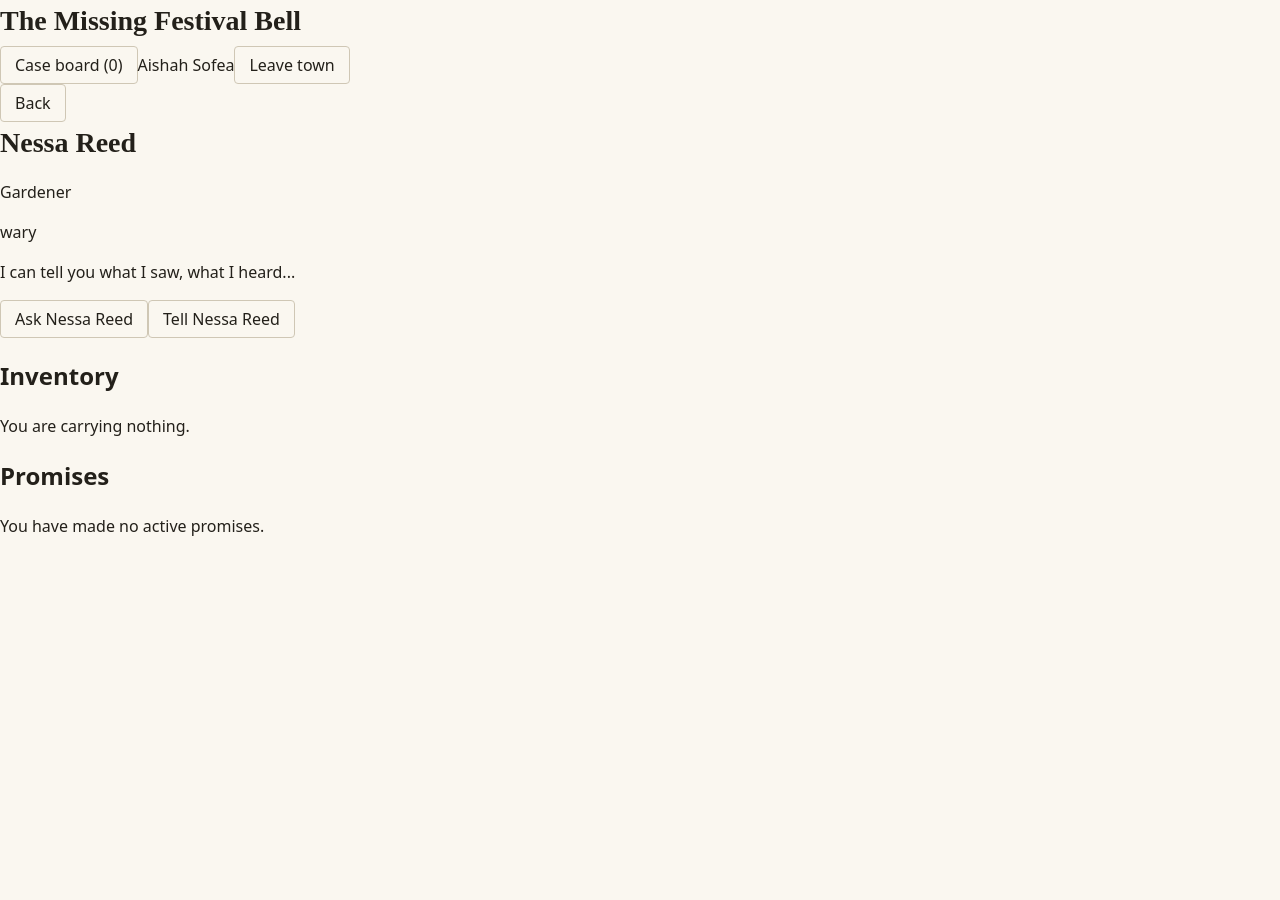
Encounter — Tell interpretation (P4-19) › sends Interpret and Tell as two separate actions and closes the sheet only after Tell completes
Click the button "Tell Nessa Reed".
click(221, 319)  # box [148,300,295,338]
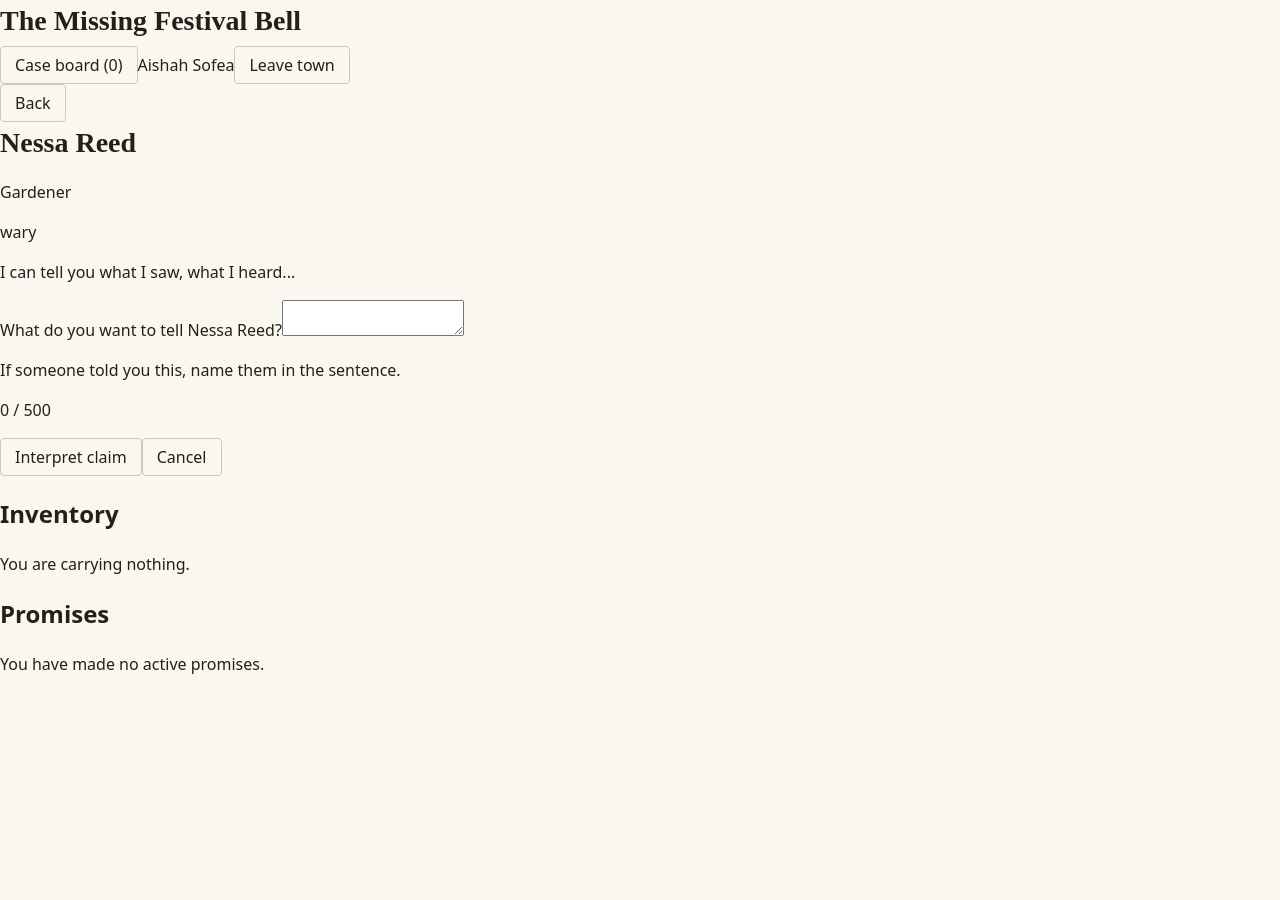
Type "The bell is hidden in Reed's Garden." into the text box labelled "What do you want to tell Nessa Reed?".
click(373, 318); type("The bell is hidden in Reed's Garden.")  # box [282,300,464,336]
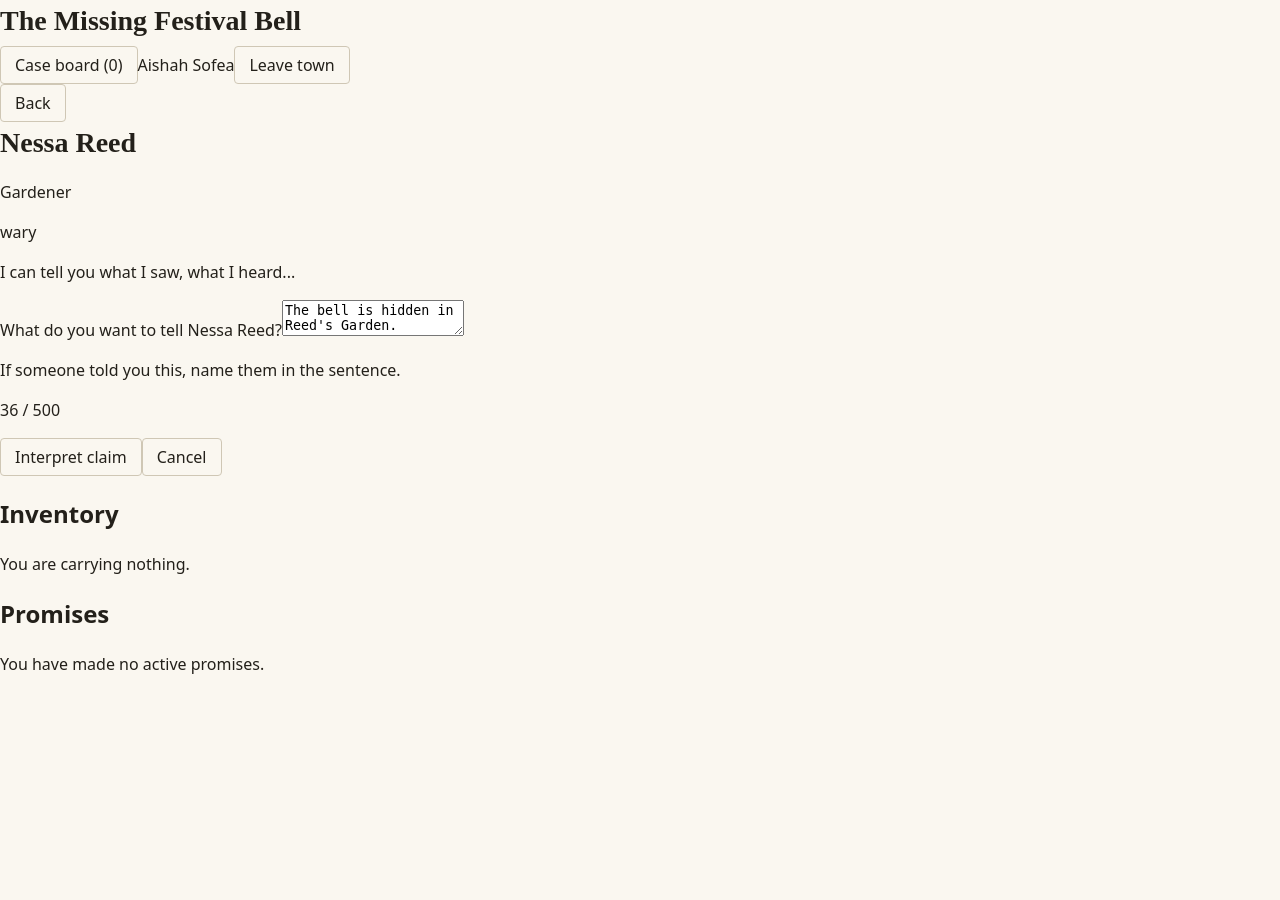
Click the button "Interpret claim".
click(71, 457)  # box [0,438,142,476]
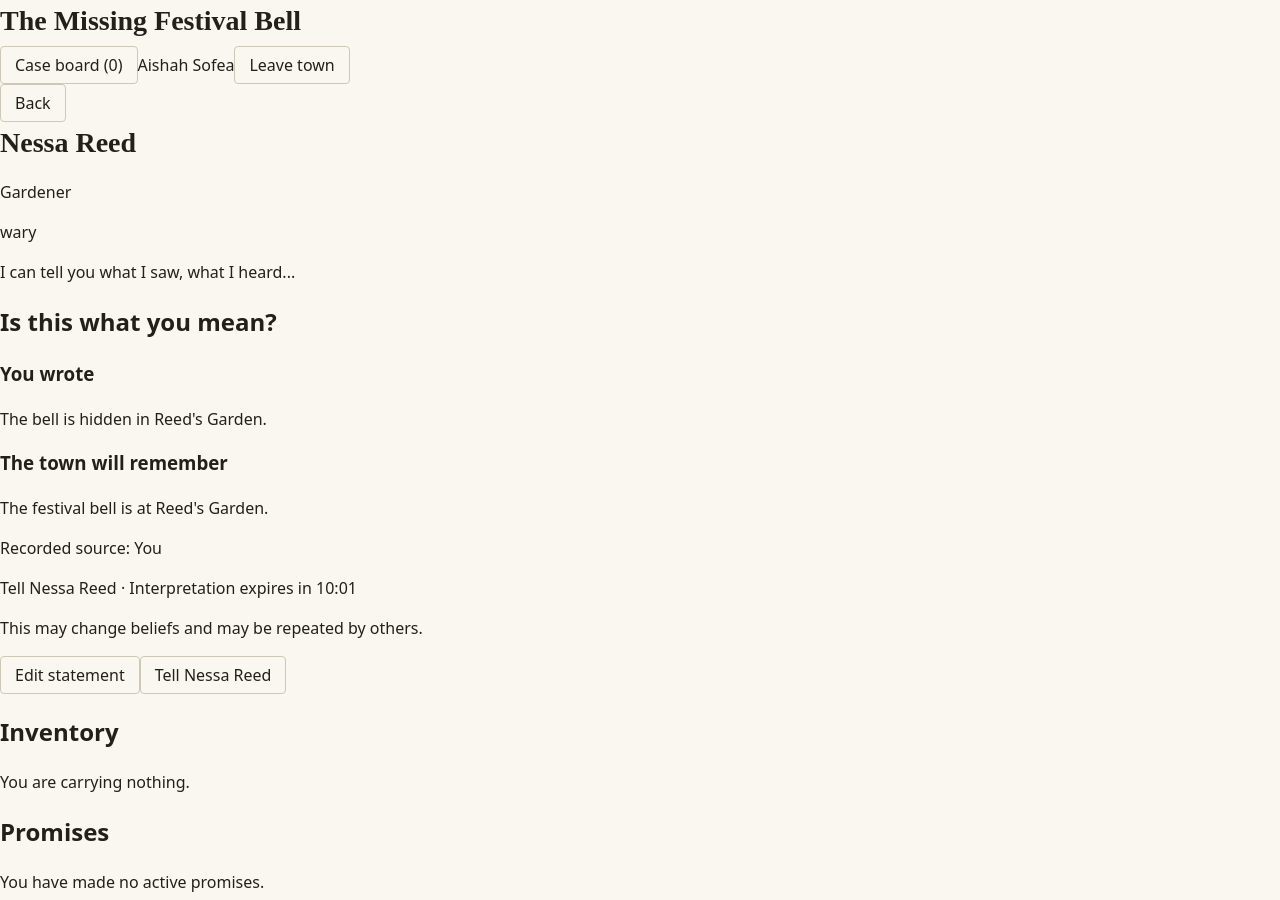
Now the dialog "Is this what you mean?" is shown, box [0,305,423,694]
Click the button "Tell Nessa Reed".
click(213, 675)  # box [140,656,286,694]
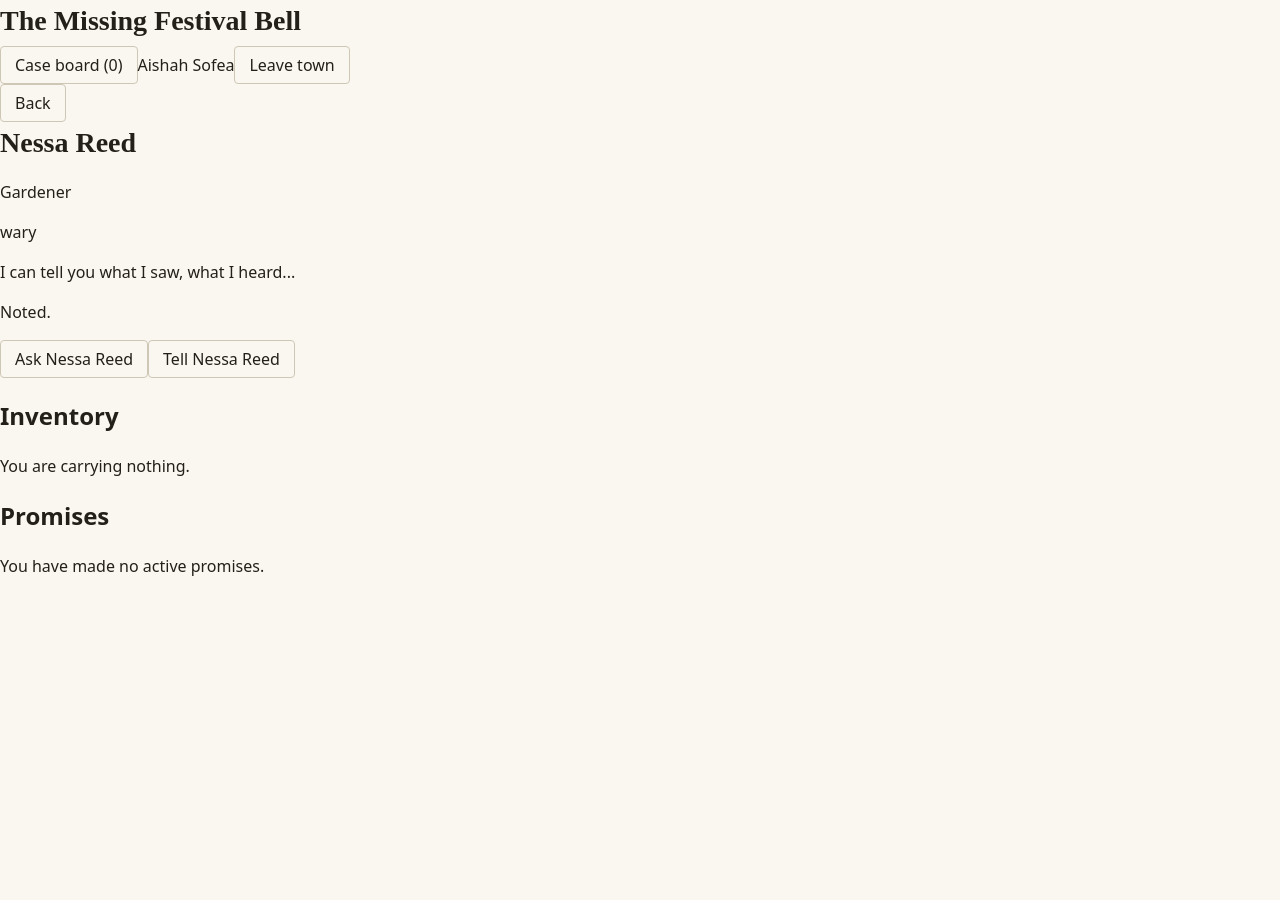
Now the dialog is gone
Now the text "Noted." is shown, box [0,301,51,323]
